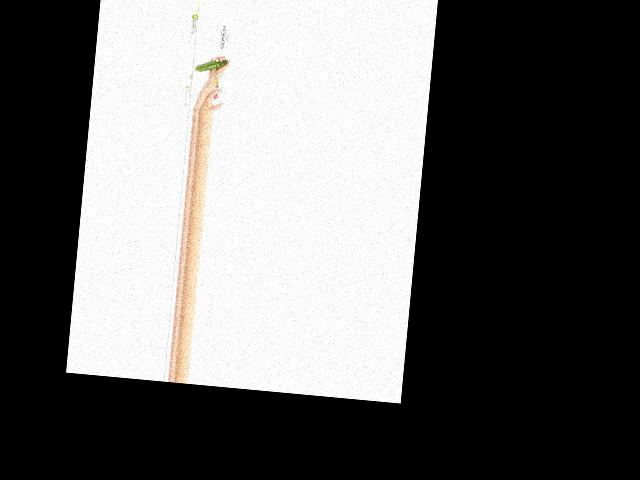cucumber: (194, 57, 227, 74)
